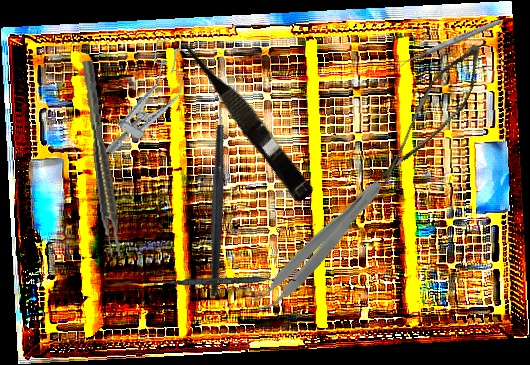Chopper: (138, 88, 289, 298)
Micro Scissor: (172, 28, 319, 204), (376, 31, 490, 204)
Spatula Surgical: (152, 273, 297, 289)
Speculum: (95, 35, 202, 169)
Surgical Spoon: (394, 17, 503, 69)
Tissue Forceps: (246, 170, 389, 321), (82, 59, 123, 258)
